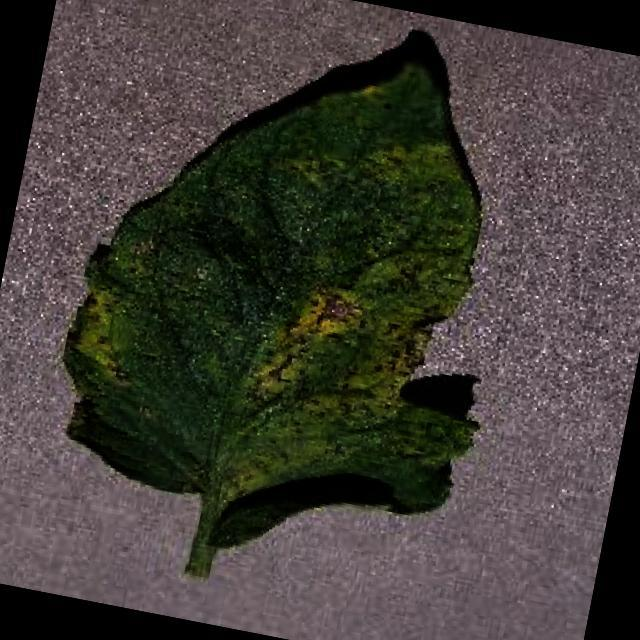Tomato Septoria spot leaf: (33, 0, 552, 597)
